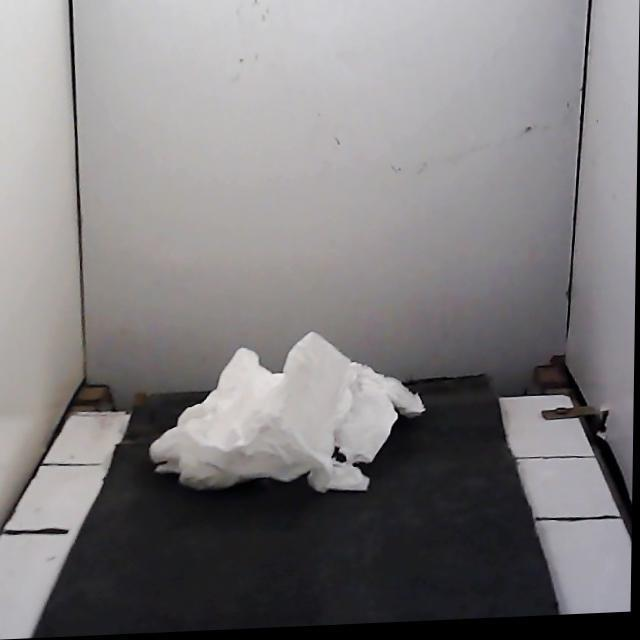papel: (149, 332, 424, 491)
